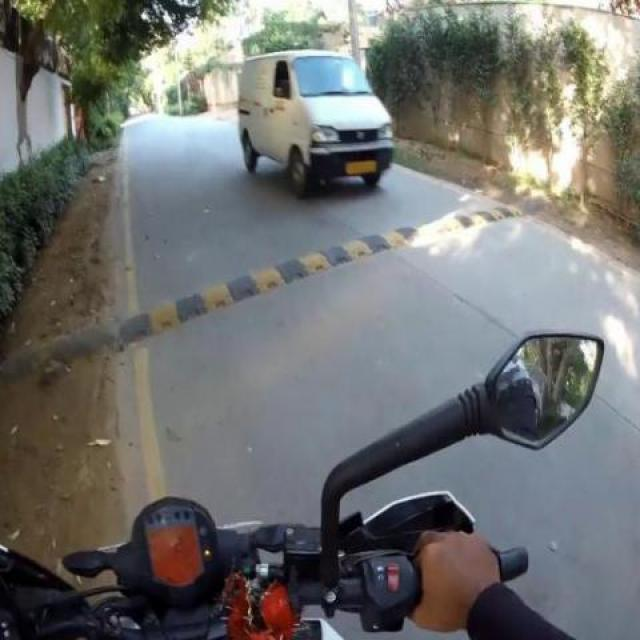Speed Bump: (116, 208, 458, 344), (458, 195, 525, 232)
